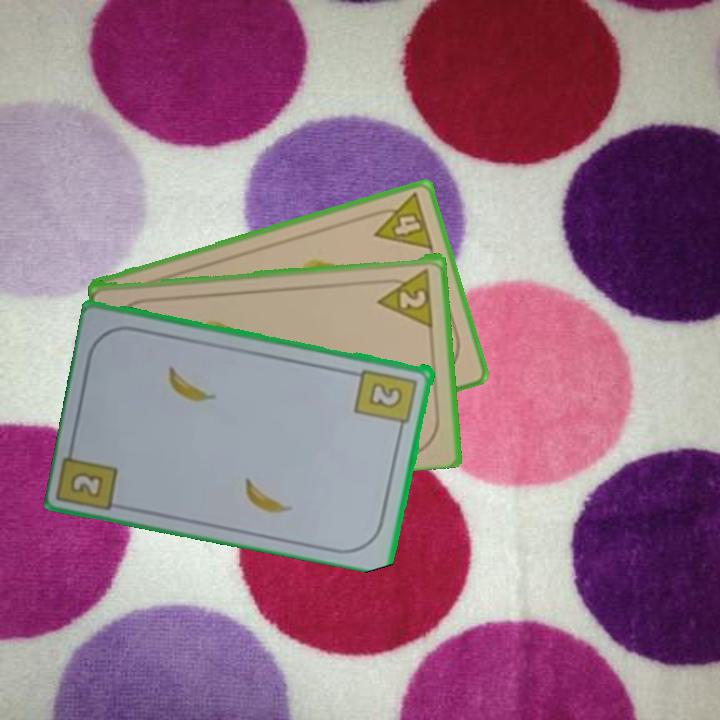2b: (352, 365, 421, 435), (70, 470, 107, 501)
2p: (374, 264, 436, 328)
4p: (365, 189, 437, 253)
